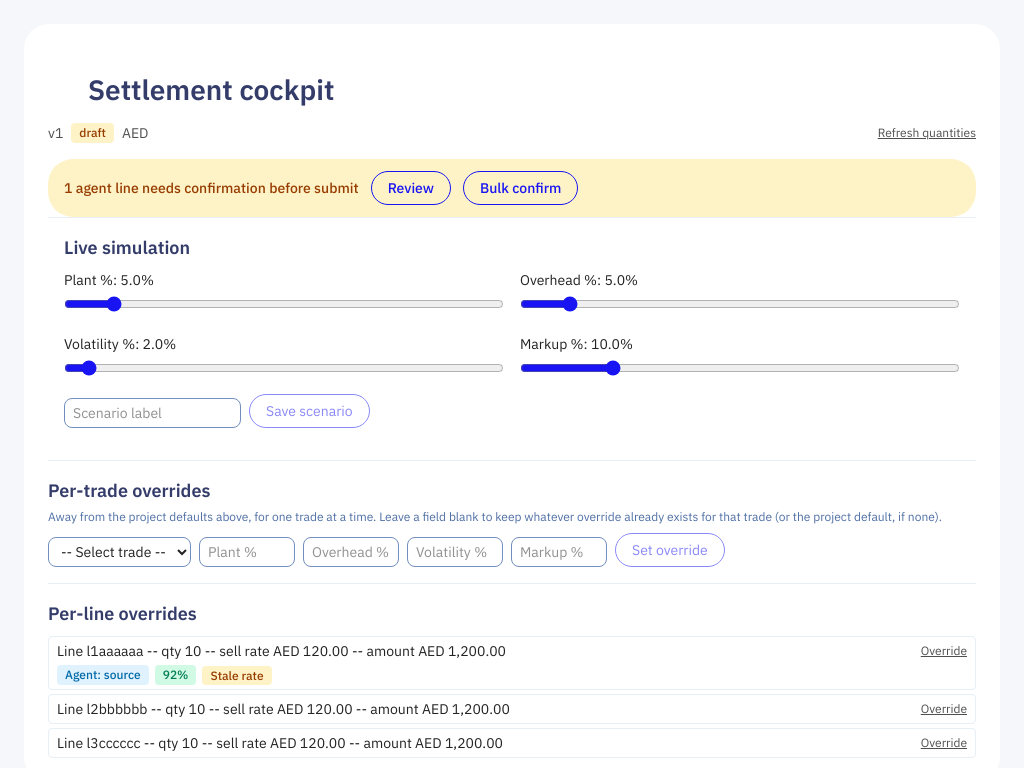
Test: SettlementPage agent lines › opens the evidence drawer from the badge; Replace opens the existing cost entry for that line
The width and height of the screenshot is (1024, 768).
What coordinates should you click on to do the following:
click the button "Agent: source"
I would click on:
 (103, 675)
Its box is x1=57 y1=665 x2=149 y2=685.
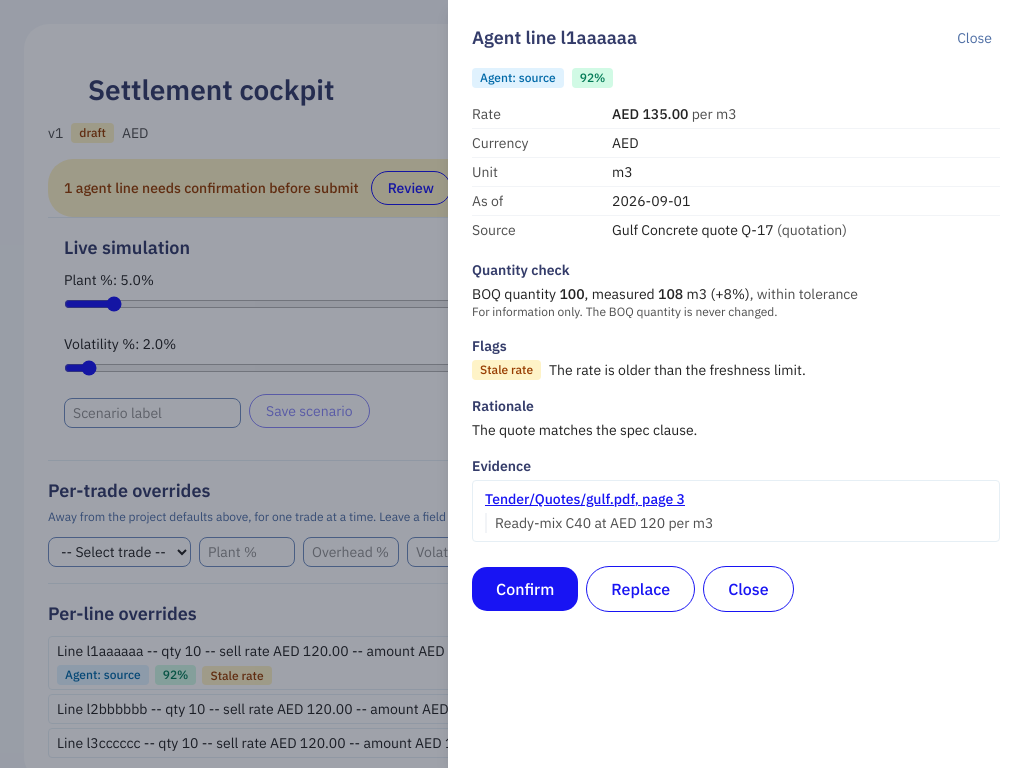
Check: the field labelled "Manual unit cost" is not shown
Check: the dialog shows "AED 135", box x1=612 y1=105 x2=688 y2=123
What coordinates should you click on to do the following:
click the button "Replace"
I would click on:
 (641, 589)
Its box is x1=586 y1=566 x2=695 y2=612.
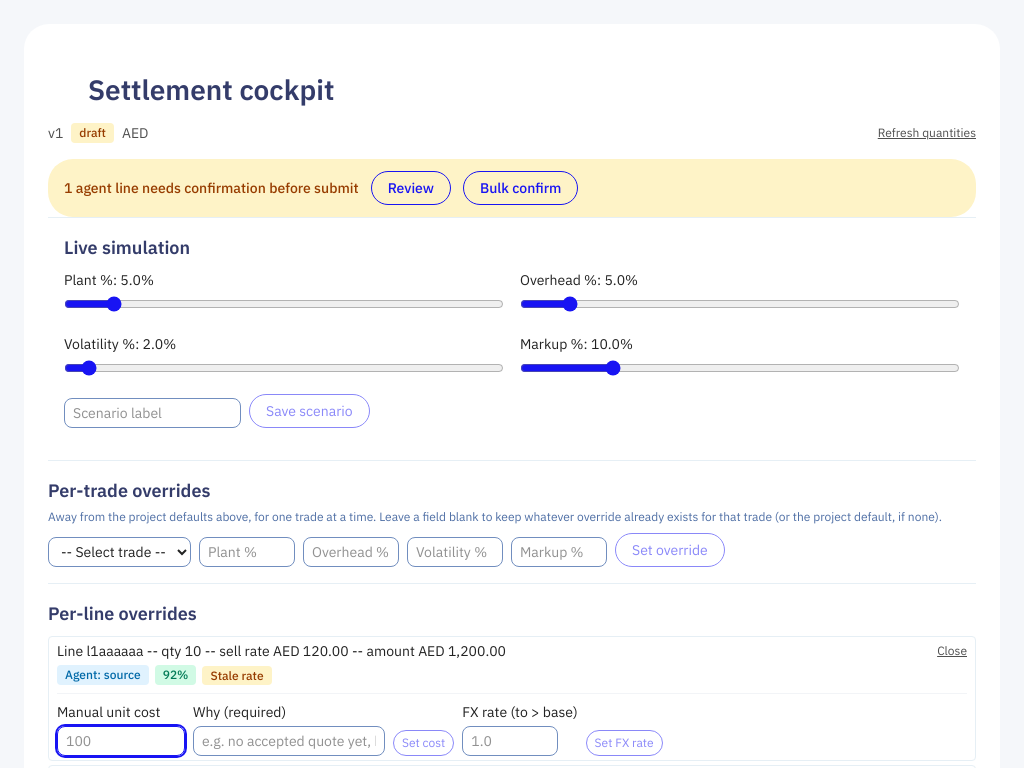
Check: the dialog is gone
